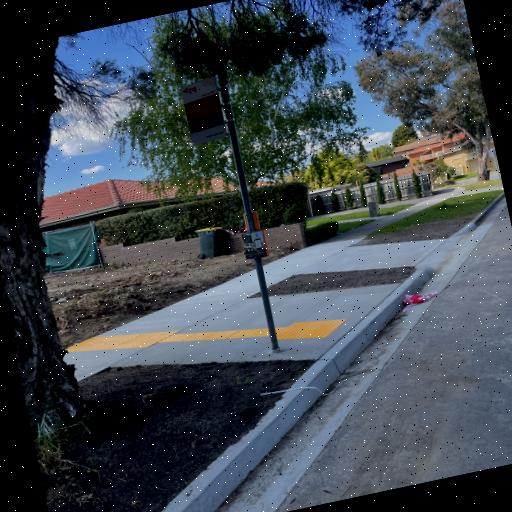kerb_cut: (303, 238, 480, 273)
signage: (175, 77, 279, 354)
